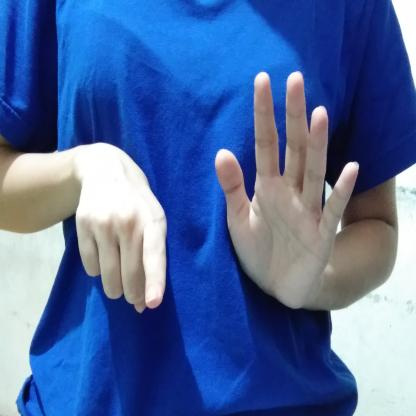stop: (68, 66, 362, 333)
